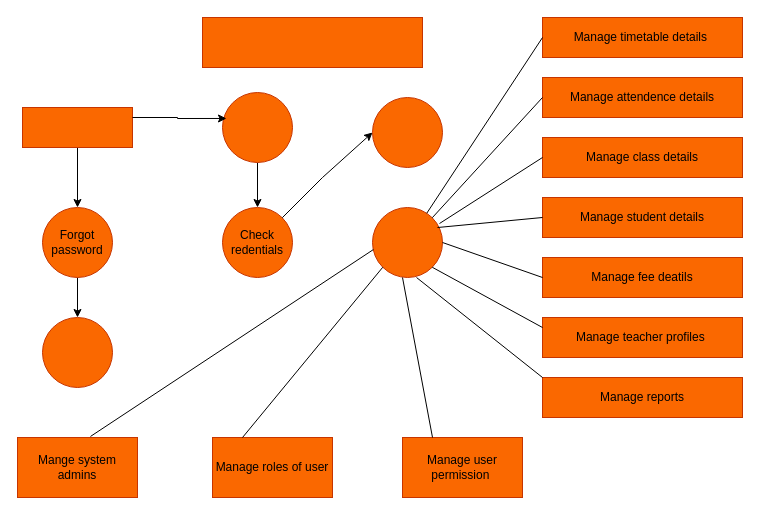
Some shapes in this 760 by 515 pixel diagram are drawn without their labels. Each missing label, with the centre of its shape:
"ADMIN" goes at pixel 77 127.
"Cheks roles of access" goes at pixel 407 132.
"Login to system" goes at pixel 257 127.
"Manage modules" goes at pixel 407 242.
"Send email to user" goes at pixel 77 352.
"STUDENT INFORMATION SYSTEM" goes at pixel 312 42.
